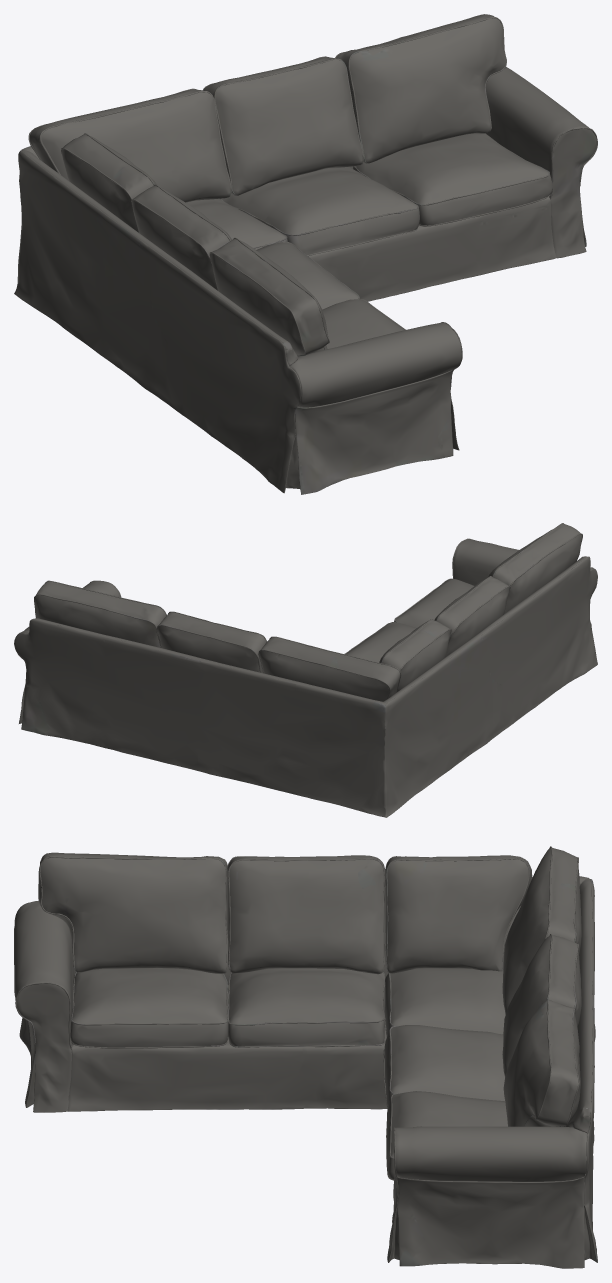
The model's file is uppland_sectional_4_seat_corner_hakebo_d.glb.
3 renders of one model, top to bottom at view 1: azimuth 30°, elevation 25°; view 2: azimuth 150°, elevation 25°; view 3: azimuth 270°, elevation 25°, orthographic. The views are drawn at different scales.
Parts seen in each view (by area): view 1: 09508985_corner_sofa_4_seat:2:2, 09508985_corner_sofa_4_seat:3:3; view 2: 09508985_corner_sofa_4_seat:2:2, 09508985_corner_sofa_4_seat:3:3; view 3: 09508985_corner_sofa_4_seat:2:2, 09508985_corner_sofa_4_seat:3:3.
Part boxes in pixels (left/top/right/bottom): 09508985_corner_sofa_4_seat:2:2: left=14, top=14, right=596, bottom=494; 09508985_corner_sofa_4_seat:3:3: left=28, top=16, right=597, bottom=389; 09508985_corner_sofa_4_seat:2:2: left=14, top=523, right=597, bottom=817; 09508985_corner_sofa_4_seat:3:3: left=34, top=523, right=582, bottom=699; 09508985_corner_sofa_4_seat:2:2: left=14, top=847, right=597, bottom=1268; 09508985_corner_sofa_4_seat:3:3: left=15, top=846, right=579, bottom=1198.
Size of the model in its own units: 2.52 by 0.8986 by 2.52.
Materials: 1 (1 with a texture image).
